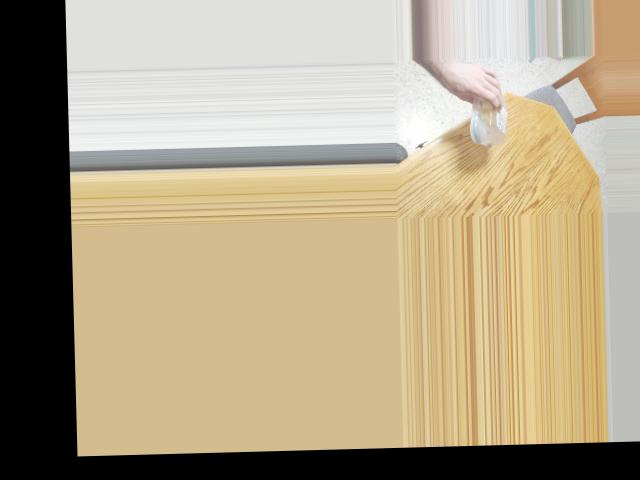cheese: (445, 90, 520, 146)
